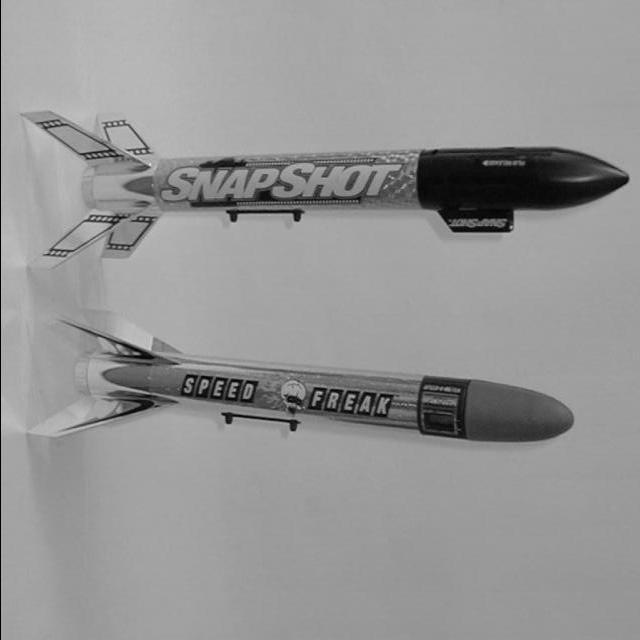Missile: (23, 108, 640, 273), (43, 321, 595, 448)
